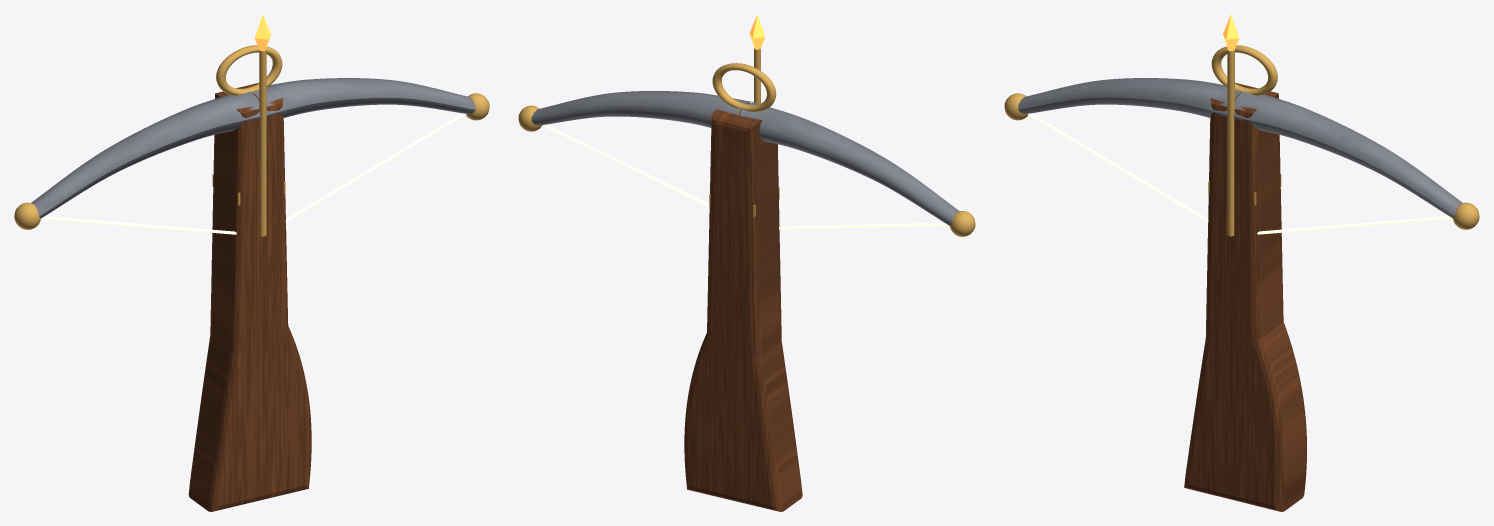
Rendered from crossbow.glb.
The picture shows the model from 3 angles, left to right: view 1: azimuth 30°, elevation 25°; view 2: azimuth 150°, elevation 25°; view 3: azimuth 330°, elevation 25°; orthographic projection. The views are drawn at different scales.
Parts seen in each view (by area): view 1: stock, prod, string, boltShaft, fittings, prodCaps; view 2: stock, prod, fittings, string, prodCaps; view 3: stock, prod, string, boltShaft, fittings, prodCaps.
Boxes of the visible parts, x1,y1,x2,y2 form: stock: (188,83,311,511); prod: (31,78,475,218); string: (41,113,466,234); boltShaft: (259,49,266,236); fittings: (212,45,285,205); prodCaps: (14,93,489,229); stock: (684,102,802,511); prod: (531,91,959,225); fittings: (709,63,779,217); string: (542,124,948,229); prodCaps: (518,105,975,236); stock: (1184,82,1306,511); prod: (1018,78,1462,218); string: (1027,113,1452,234); boltShaft: (1227,49,1234,236); fittings: (1208,45,1281,205); prodCaps: (1004,93,1479,229).
Size of the model in its own units: 2 by 1.98 by 0.235.
7 materials, 2 textured.
